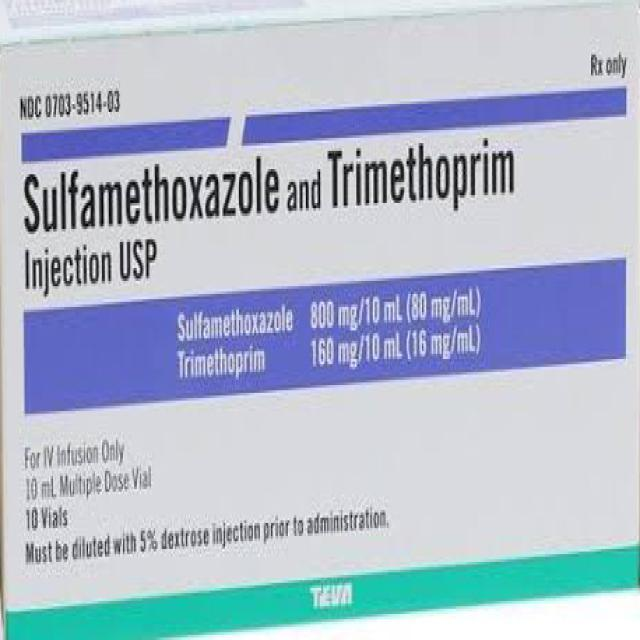drug-name: (19, 137, 522, 236)
